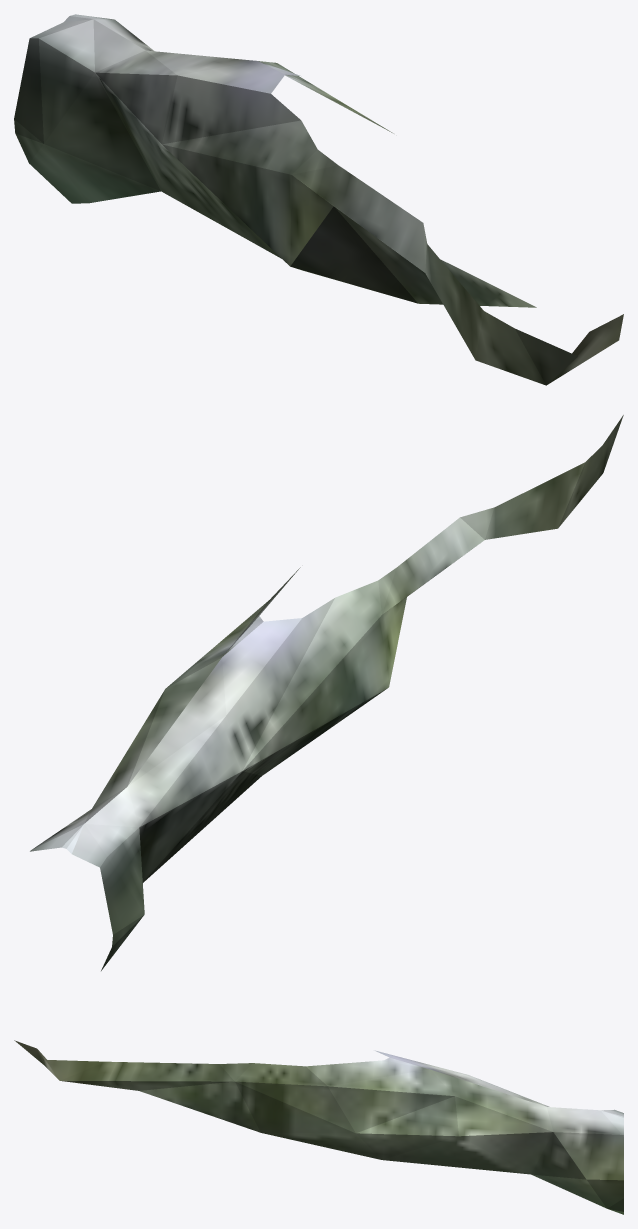
3 views of the same model, one above another, from view 1: azimuth 30°, elevation 25°; view 2: azimuth 150°, elevation 25°; view 3: azimuth 270°, elevation 25° (orthographic). The views are drawn at different scales.
Size of the model in its own units: 0.1635 by 0.2759 by 0.9892.
Materials: 1 (1 with a texture image).
